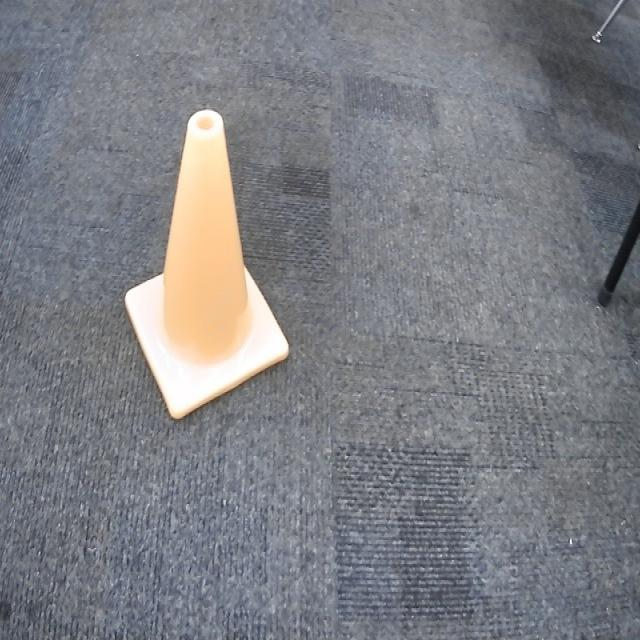cone: (118, 101, 295, 428)
